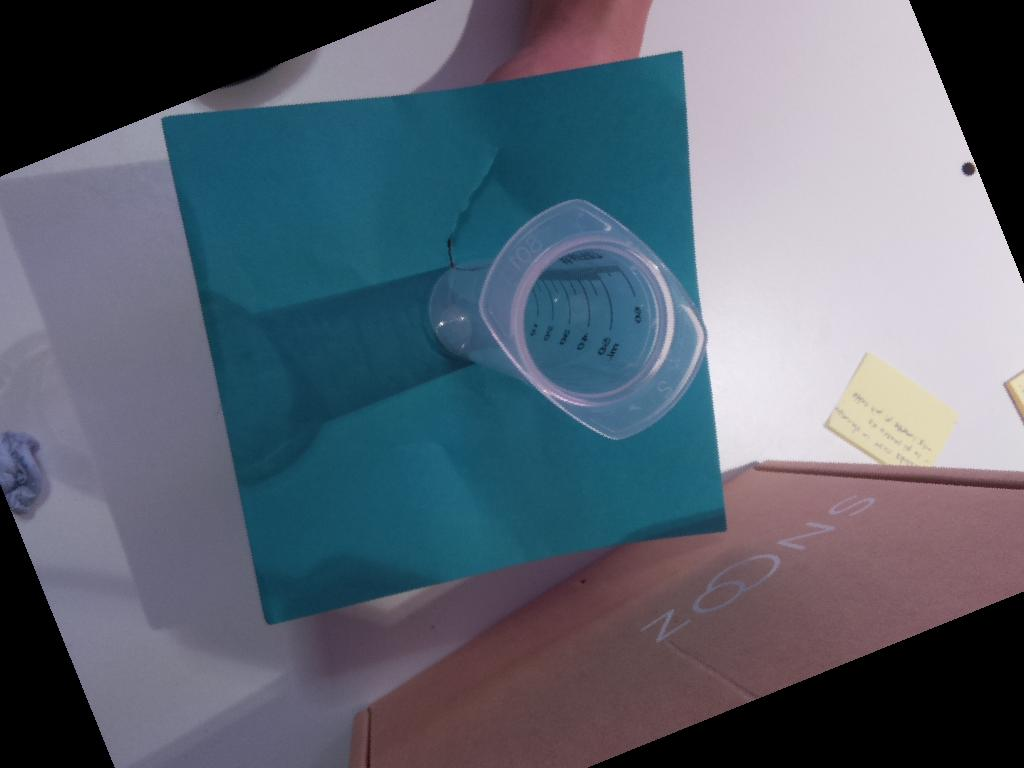clean: (478, 195, 707, 441)
